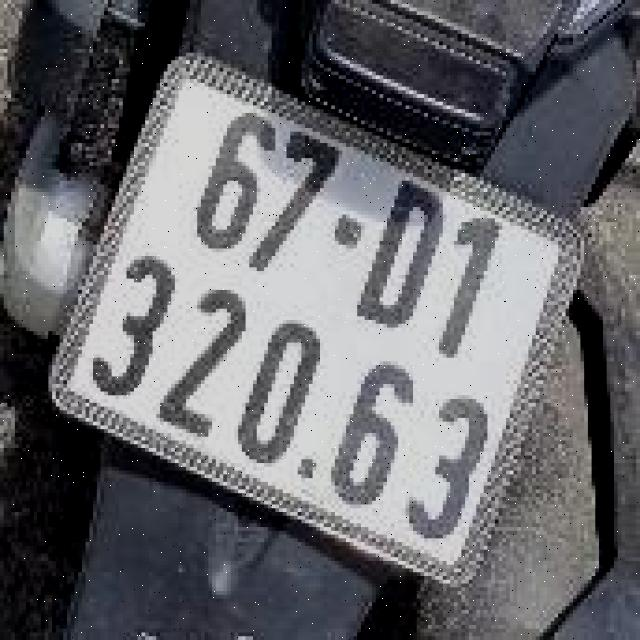0: (224, 309, 336, 485)
1: (420, 204, 510, 372)
2: (148, 271, 263, 451)
3: (78, 240, 187, 414), (395, 380, 502, 553)
6: (318, 348, 429, 519), (178, 102, 286, 275)
7: (238, 121, 347, 298)
D: (344, 167, 457, 348)
